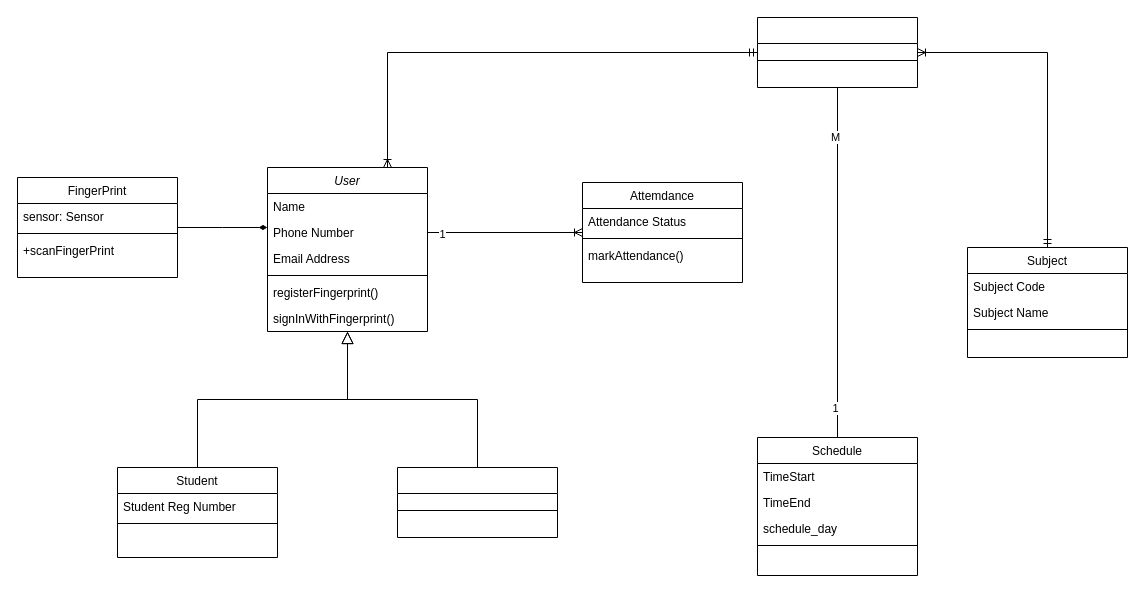
Some shapes in this 1145 by 593 pixel diagram are drawn without their labels. The shapes that lost their labels are listed below. From the top down, each one's centre as x and y in pixels, then its label:
point (837, 52): ClassInfo
point (477, 502): Staff
